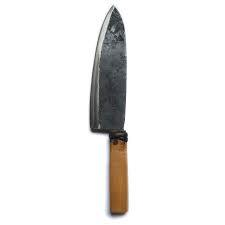Knife: (88, 4, 128, 215)
